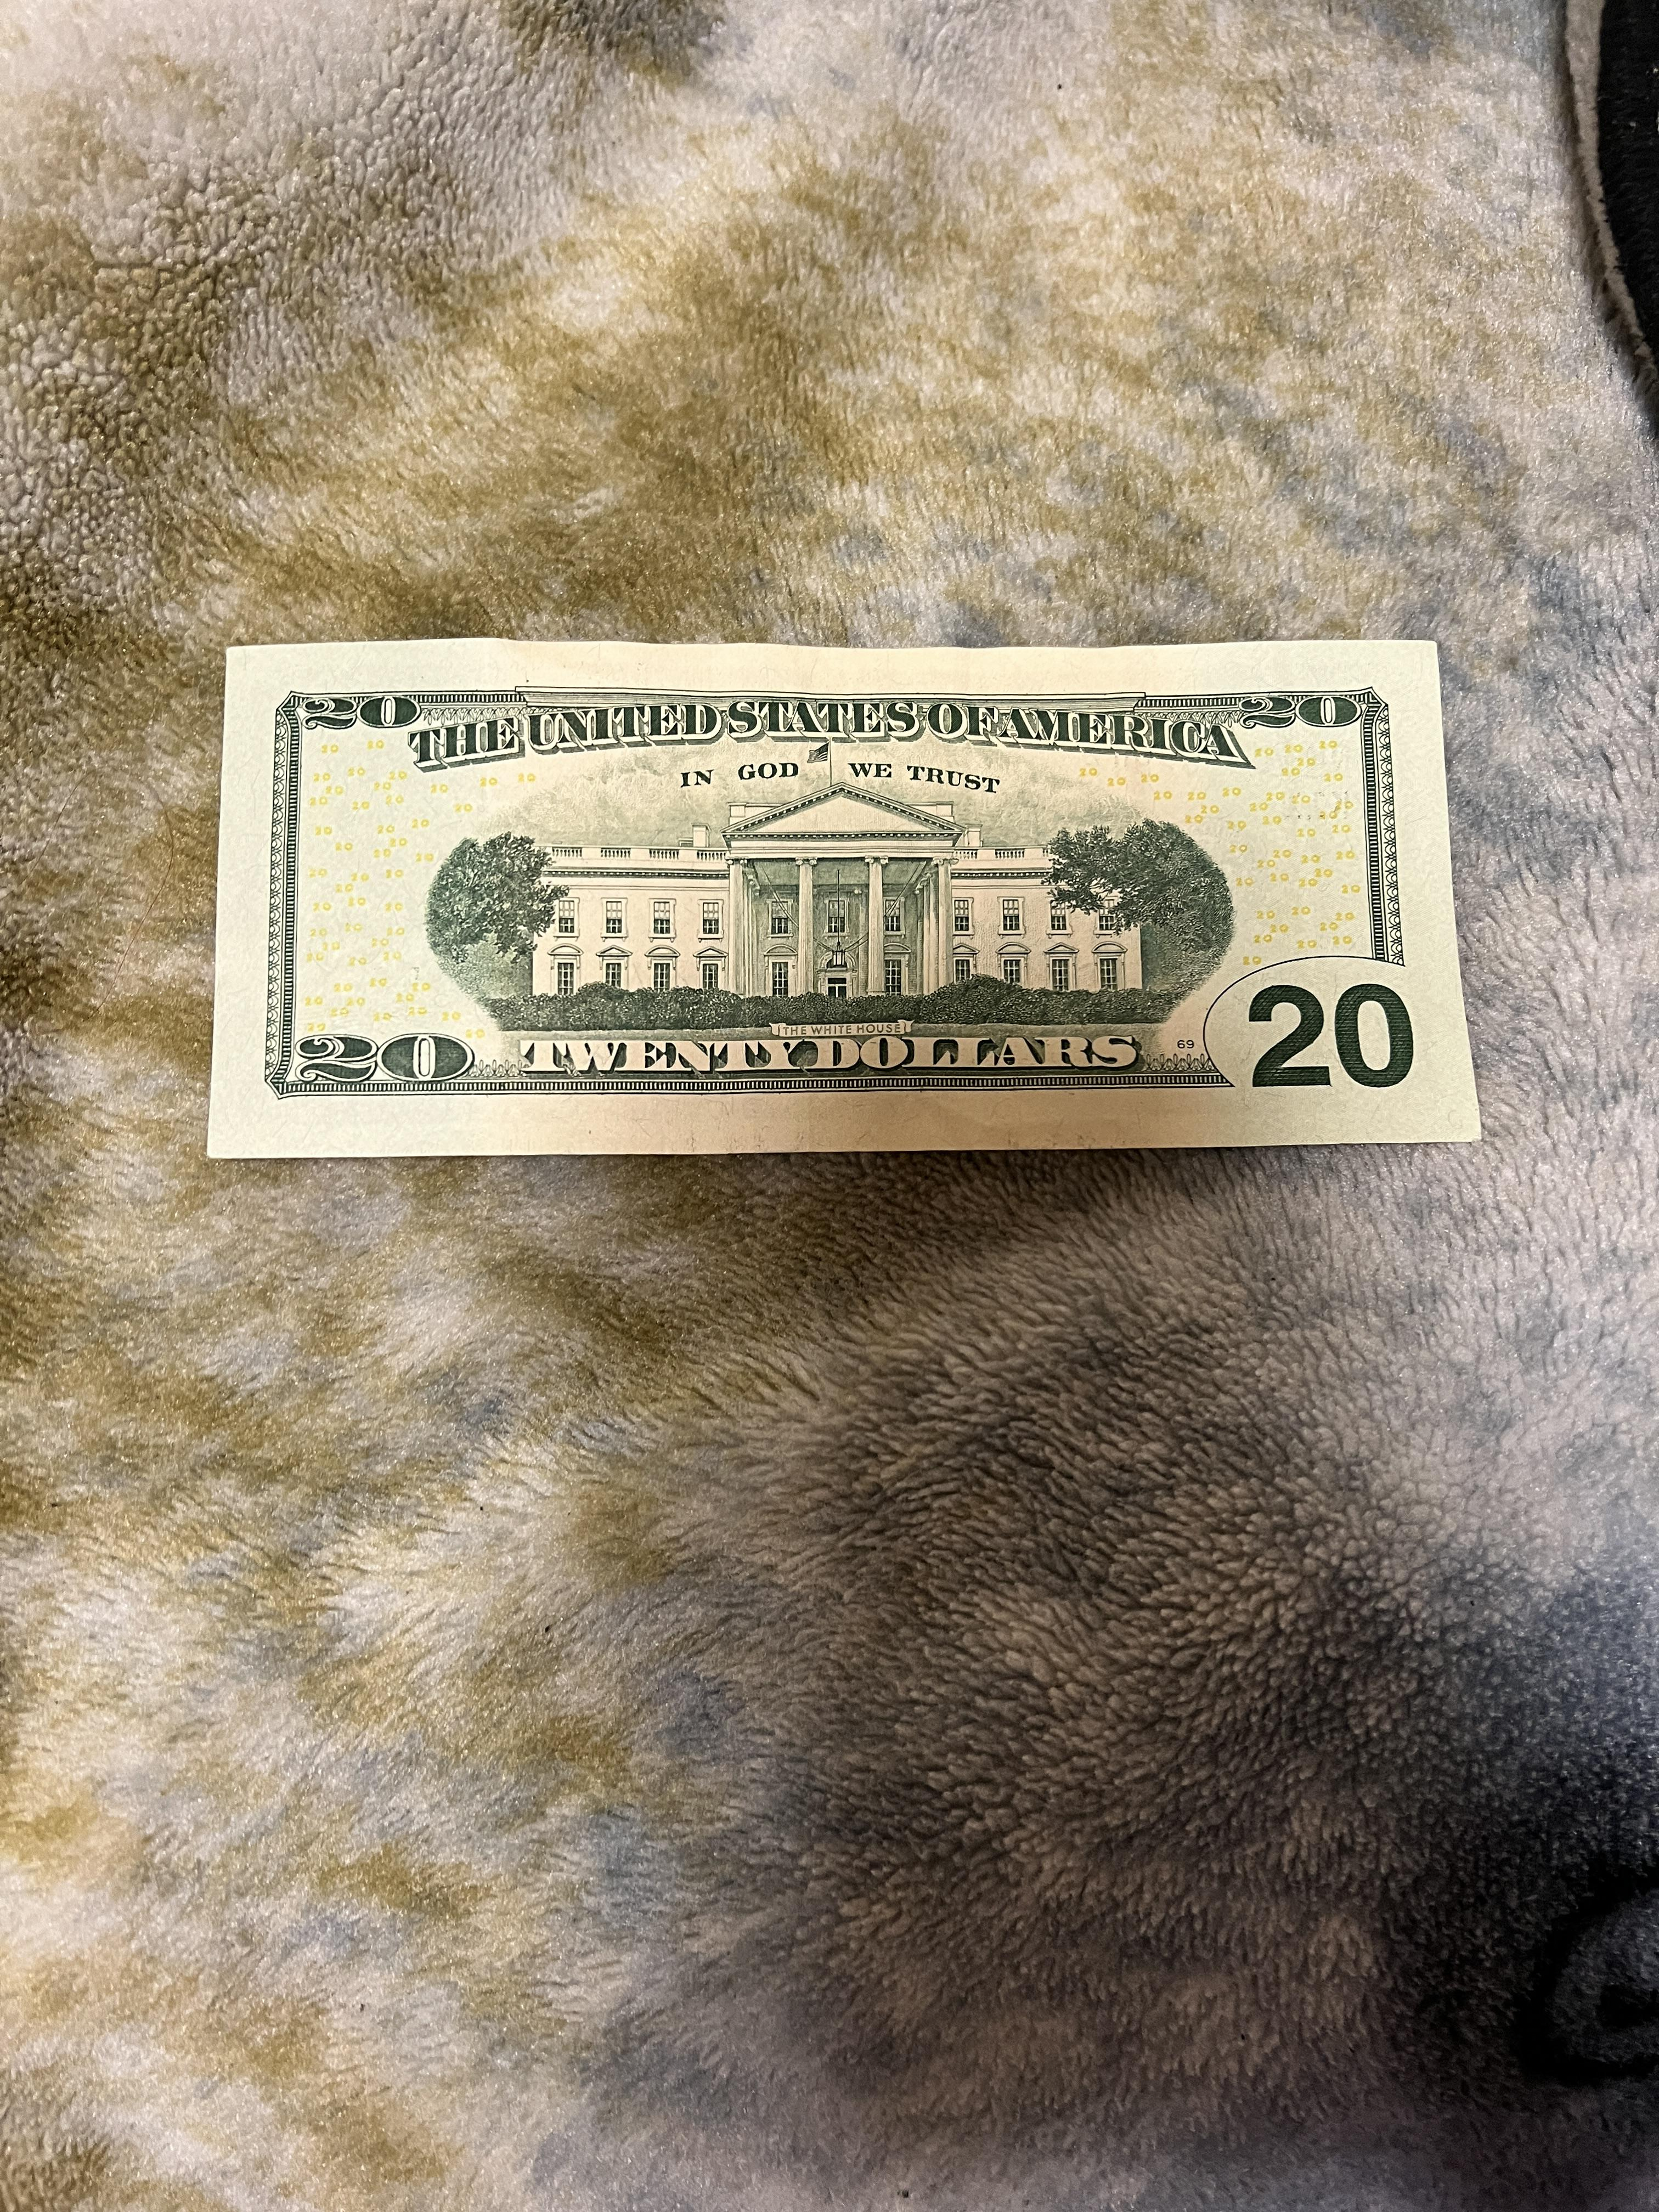TwentyBill: (195, 632, 1500, 1155)
